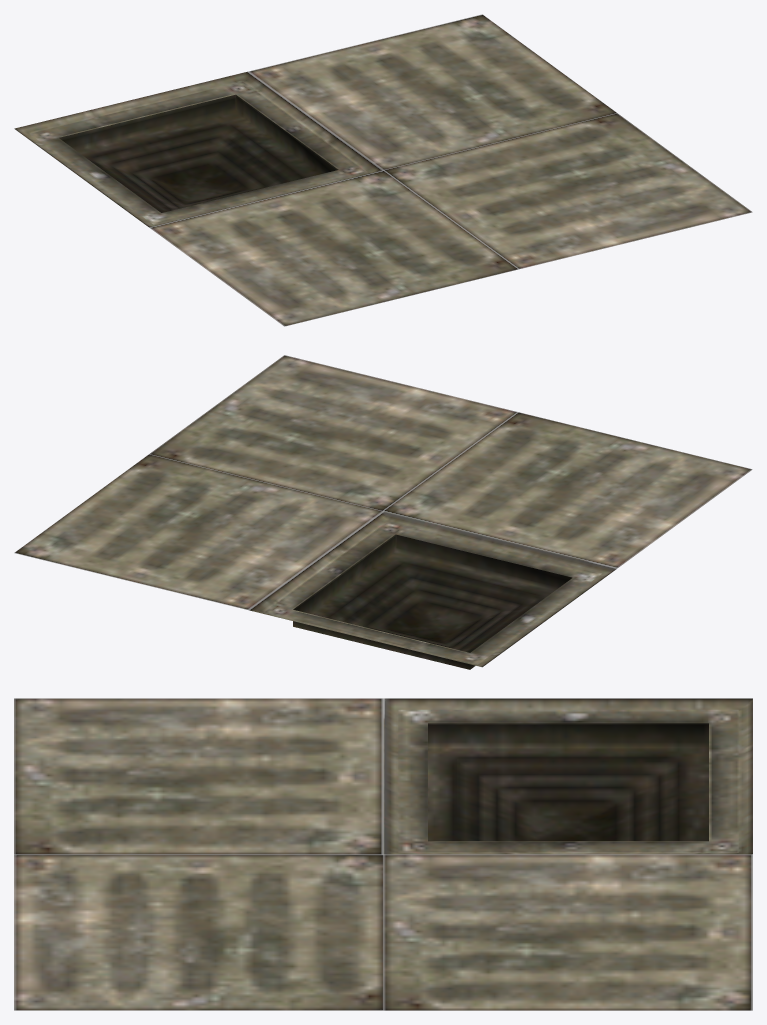
File: metal_vent.dae
The picture shows the model from 3 angles, top to bottom: view 1: azimuth 30°, elevation 25°; view 2: azimuth 150°, elevation 25°; view 3: azimuth 270°, elevation 25°; orthographic projection. The views are drawn at different scales.
Visible parts, largest first — view 1: polySurface788; view 2: polySurface788; view 3: polySurface788.
Boxes of the visible parts, bbox=[...] form: polySurface788: bbox=[14, 14, 752, 326]; polySurface788: bbox=[14, 355, 752, 669]; polySurface788: bbox=[14, 698, 752, 1010].
Size of the model in its own units: 2 by 0.1531 by 2.
